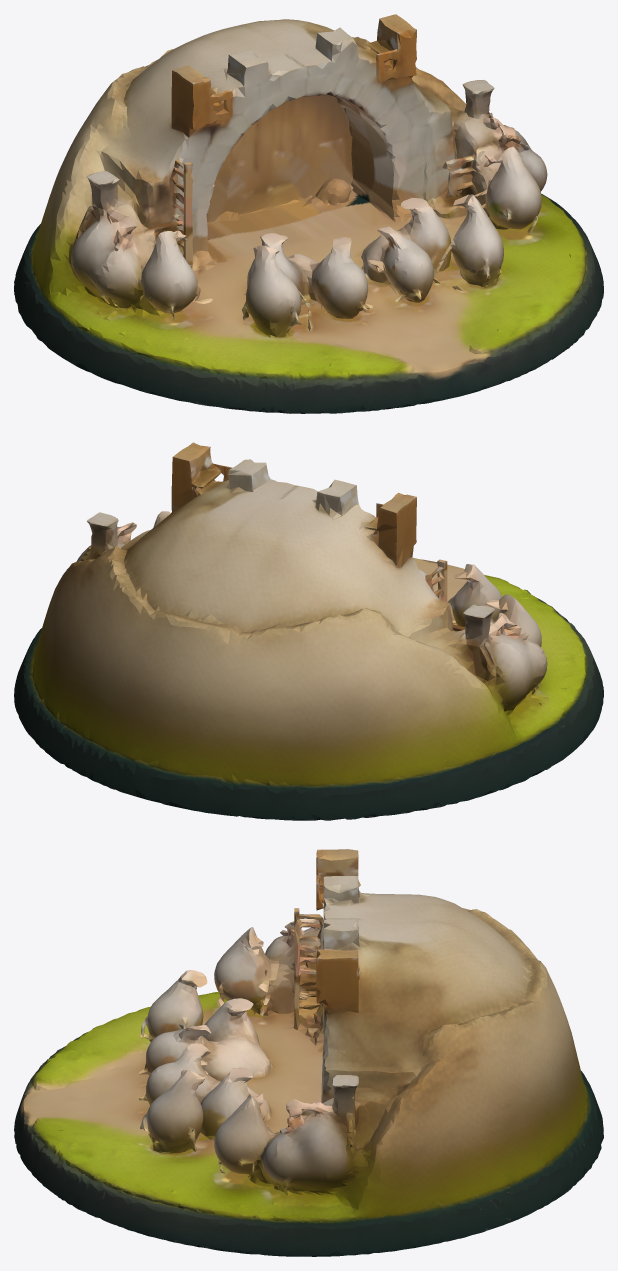
3 views of the same model, one above another, from view 1: azimuth 30°, elevation 25°; view 2: azimuth 150°, elevation 25°; view 3: azimuth 270°, elevation 25° (orthographic).
Parts seen in each view (by area): view 1: DefensiveFormation; view 2: DefensiveFormation; view 3: DefensiveFormation.
Boxes of the visible parts, <box> form: DefensiveFormation: <box>14,14,603,413</box>; DefensiveFormation: <box>14,442,603,820</box>; DefensiveFormation: <box>14,849,603,1256</box>.
Bounding box in the file's own units: 1.9 × 0.8205 × 1.9.
1 material, 1 textured.
